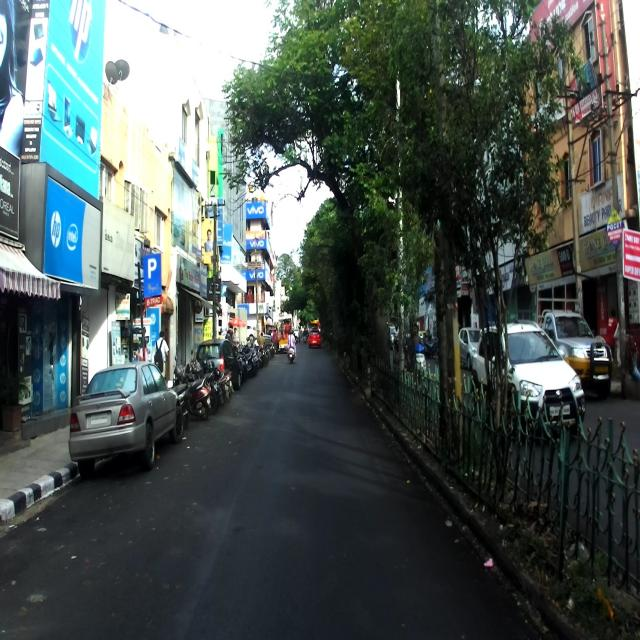car: (472, 319, 585, 443), (68, 361, 184, 478)
scooter: (173, 354, 213, 419)
truck: (540, 309, 612, 399)
